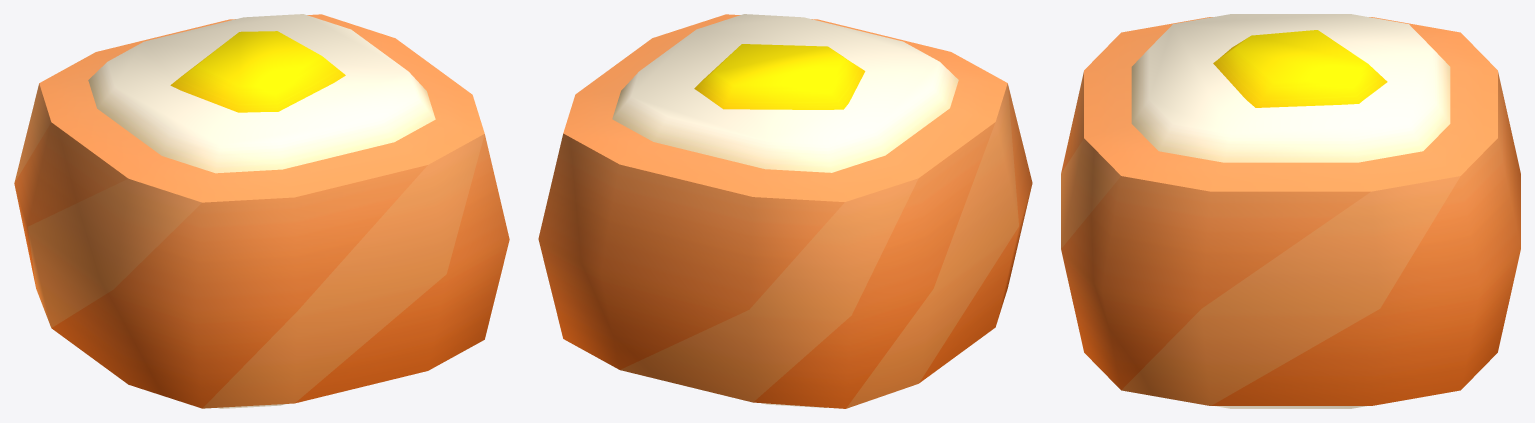
The model's file is Sushi_Small_Salmon_002.gltf.
3 renders of one model, left to right at view 1: azimuth 30°, elevation 25°; view 2: azimuth 150°, elevation 25°; view 3: azimuth 270°, elevation 25°, orthographic. The views are drawn at different scales.
Parts seen in each view (by area): view 1: Sushi_Small_Salmon_002_x; view 2: Sushi_Small_Salmon_002_x; view 3: Sushi_Small_Salmon_002_x.
Part boxes in pixels (bbox=[...]): Sushi_Small_Salmon_002_x: bbox=[14, 14, 509, 408]; Sushi_Small_Salmon_002_x: bbox=[538, 14, 1032, 408]; Sushi_Small_Salmon_002_x: bbox=[1061, 14, 1520, 408].
Size of the model in its own units: 0.6758 by 0.5025 by 0.6758.
Materials: 1 (1 with a texture image).
